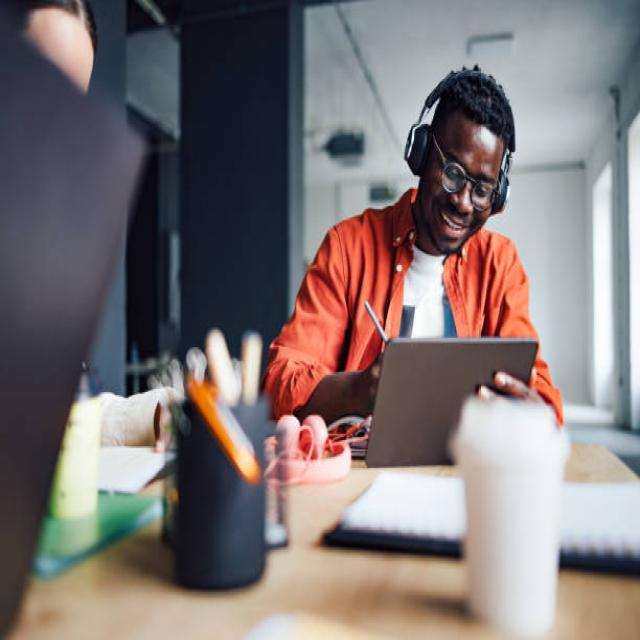Headphone: (404, 70, 516, 218)
